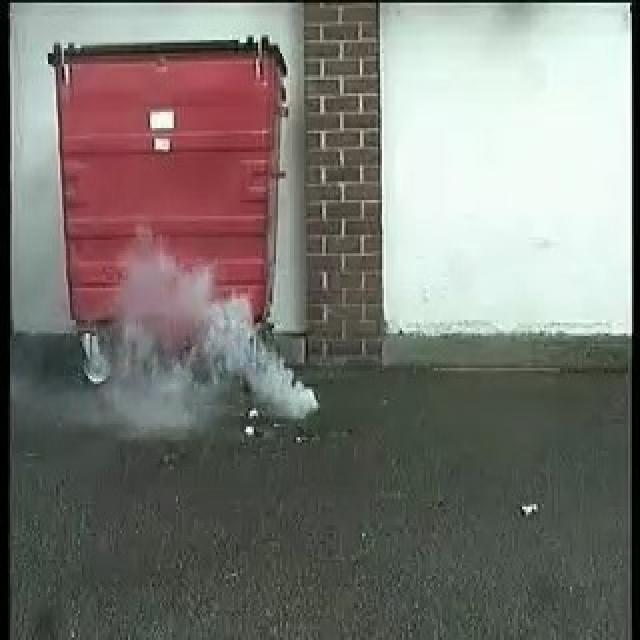smoke: (106, 246, 316, 420)
